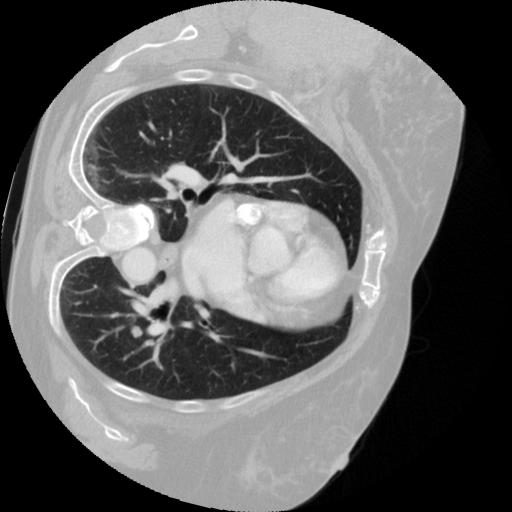nodule: (128, 322, 147, 341)
